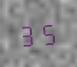five: (38, 20, 56, 45)
three: (19, 21, 37, 47)
